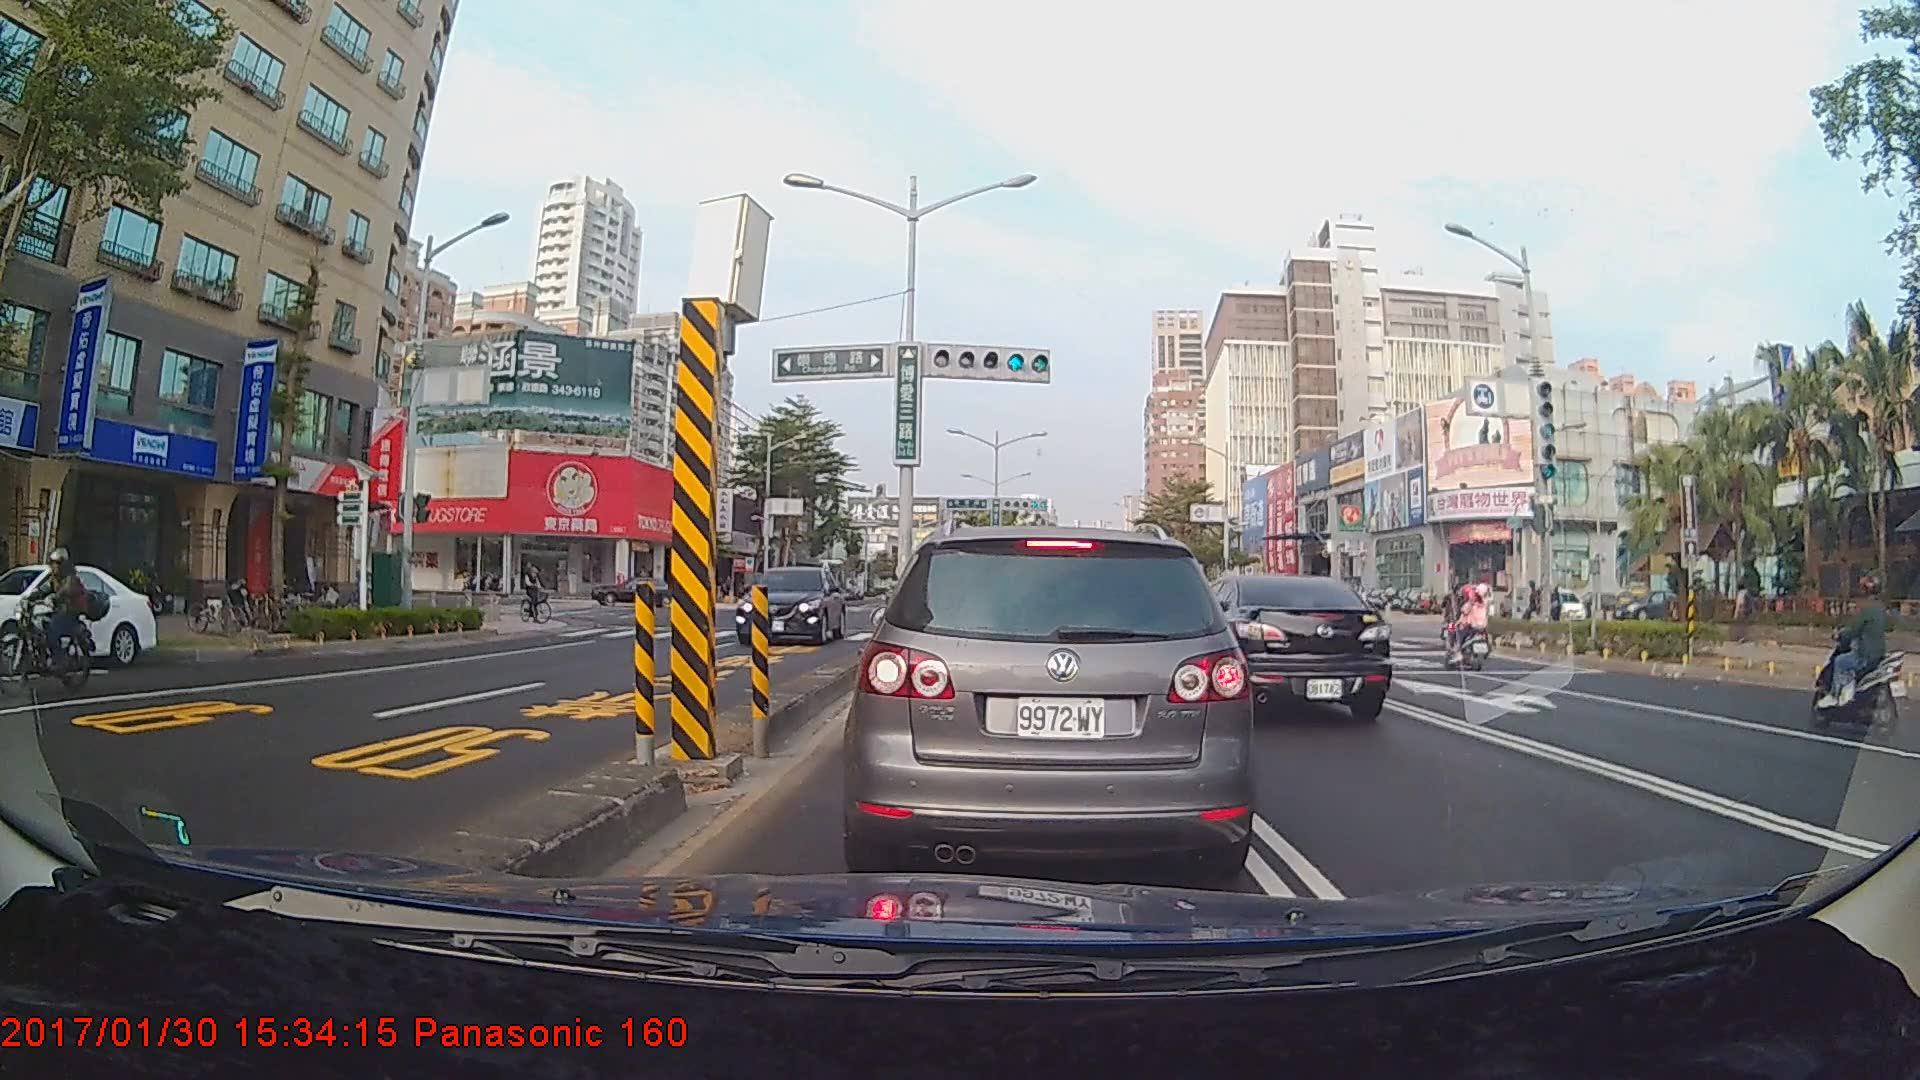pedestrian: (1730, 581, 1754, 644)
rider: (1805, 568, 1902, 736), (1, 549, 107, 694), (1448, 584, 1499, 678), (518, 559, 561, 629), (1444, 582, 1474, 651)
vehicle: (855, 523, 1245, 876), (1149, 572, 1397, 727), (0, 561, 159, 671), (735, 564, 847, 648), (587, 574, 691, 606)
